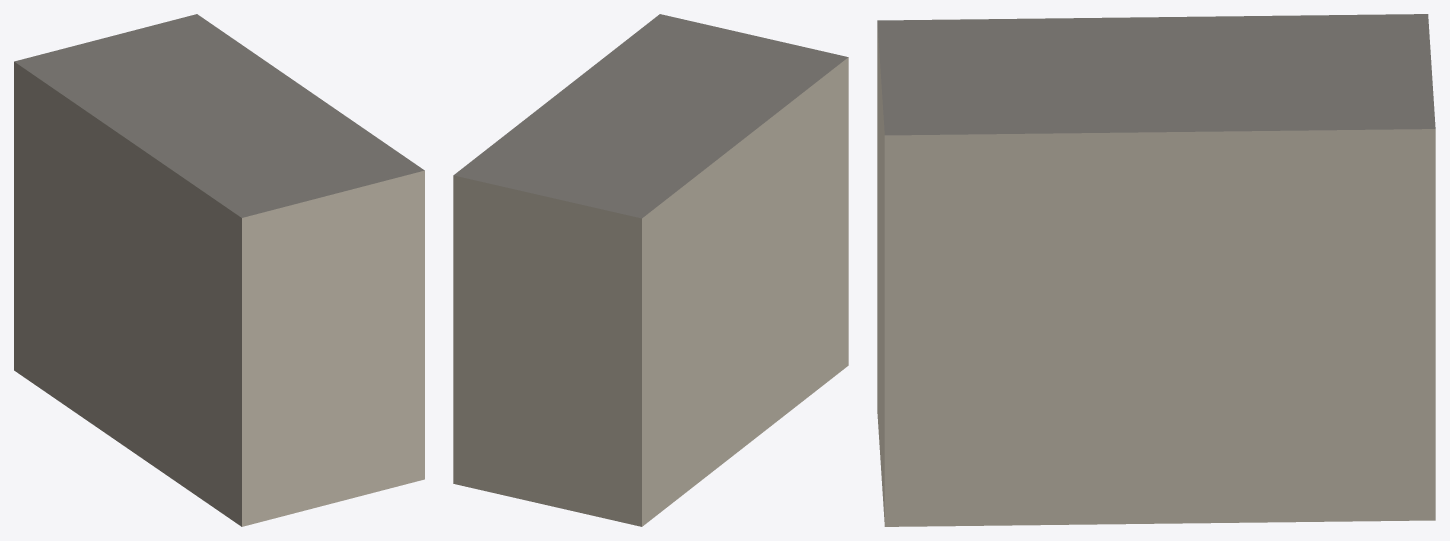
3 views of the same model, side by side, from view 1: azimuth 30°, elevation 25°; view 2: azimuth 150°, elevation 25°; view 3: azimuth 270°, elevation 25° (orthographic). The views are drawn at different scales.
Parts seen in each view (by area): view 1: HP-w858824356; view 2: HP-w858824356; view 3: HP-w858824356.
Boxes of the visible parts, box(x1,y1,x2,y2) form: HP-w858824356: box(14, 14, 424, 526); HP-w858824356: box(453, 14, 848, 526); HP-w858824356: box(877, 14, 1435, 526).
Size of the model in its own units: 11.98 by 18 by 23.26.
